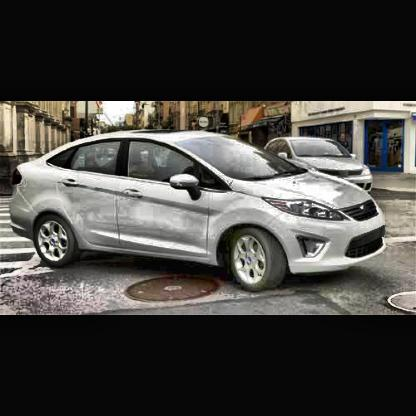Ford Fiesta Sedan 2012: (11, 127, 388, 287)
